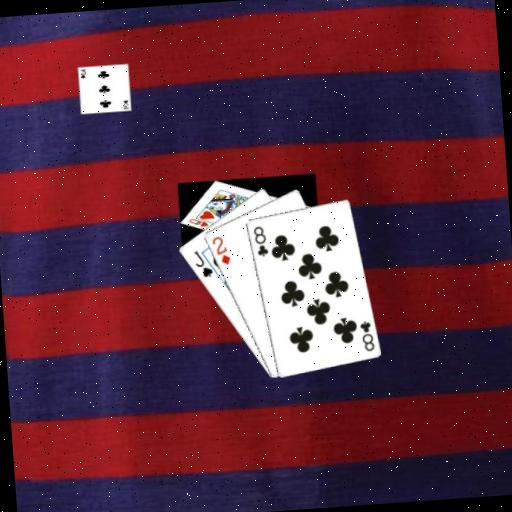2D: (209, 232, 233, 267)
8C: (250, 222, 270, 258), (357, 317, 376, 353)
JS: (191, 246, 215, 279)
